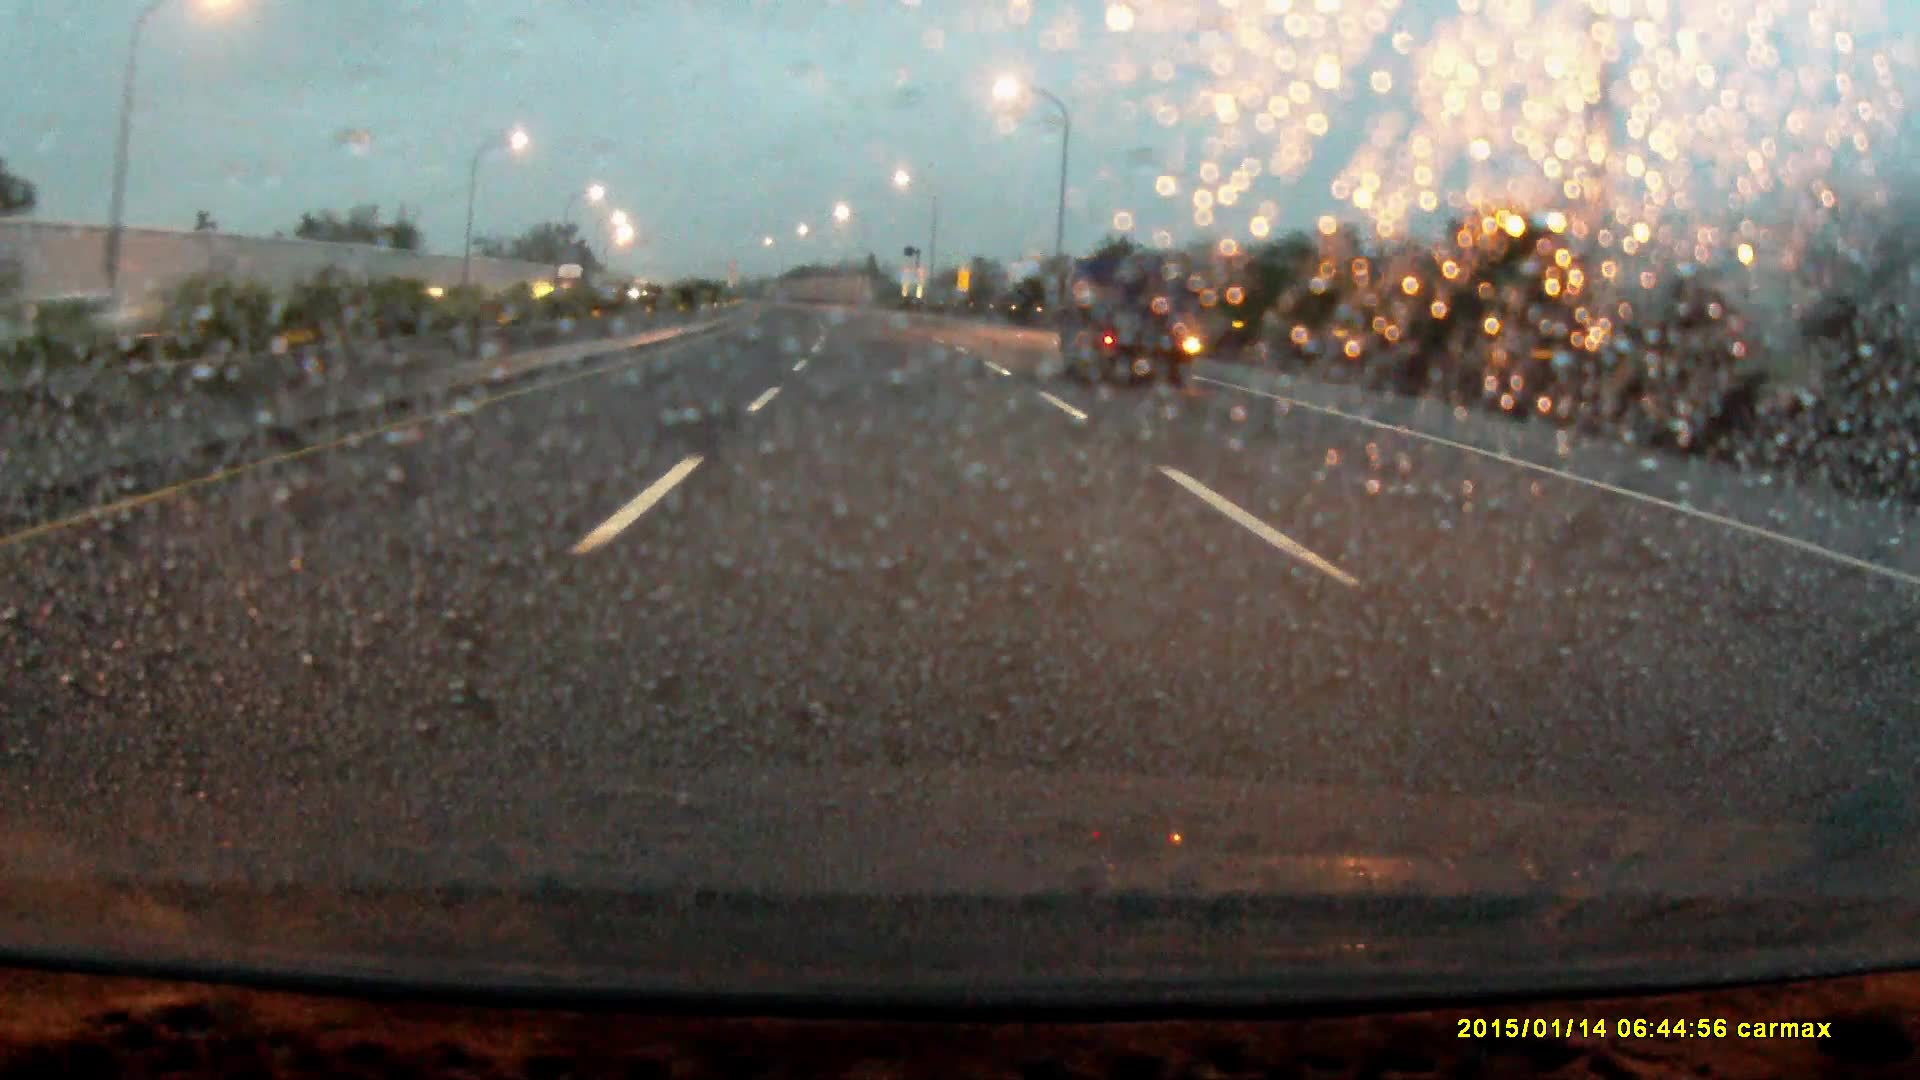vehicle: (1056, 255, 1197, 396), (555, 261, 592, 315)
